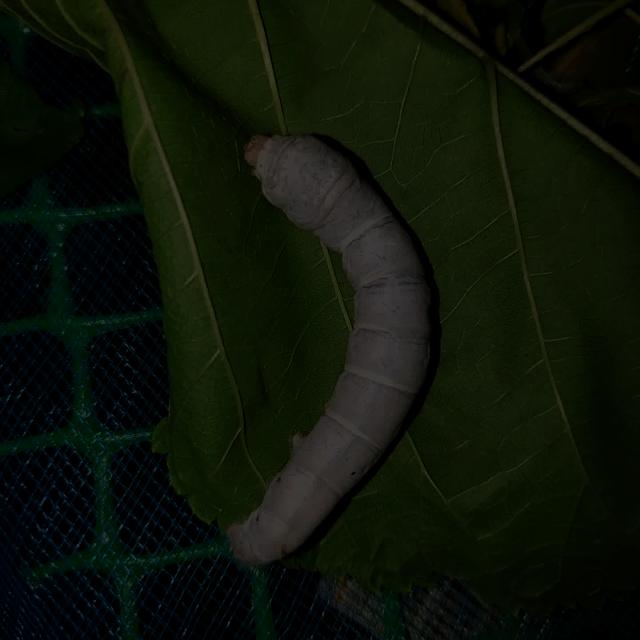Healthy: (217, 124, 443, 576)
